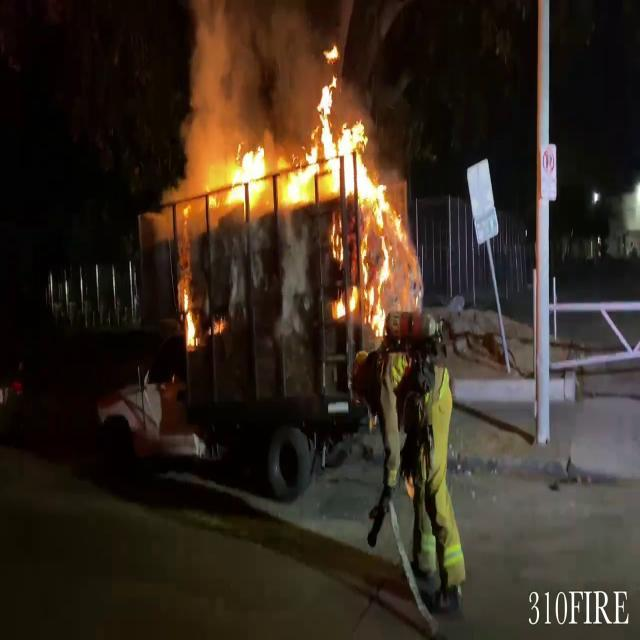Fire: (207, 72, 402, 324), (180, 280, 198, 352)
Smoke: (175, 0, 318, 160)
